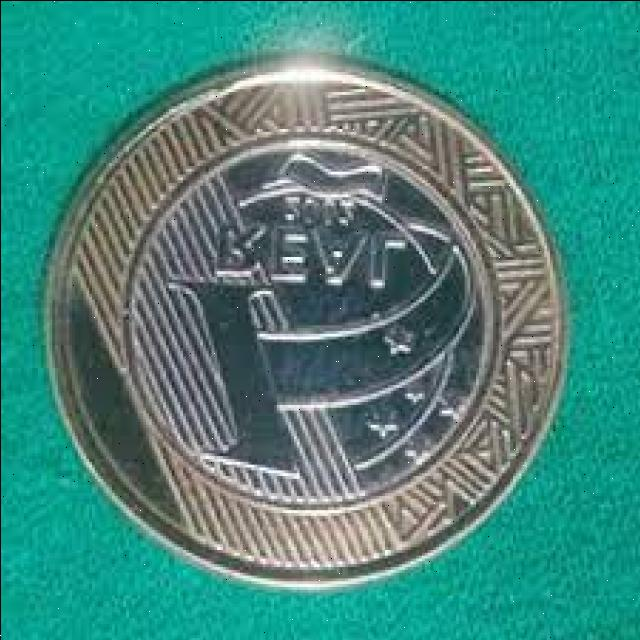1 real: (37, 62, 569, 586)
